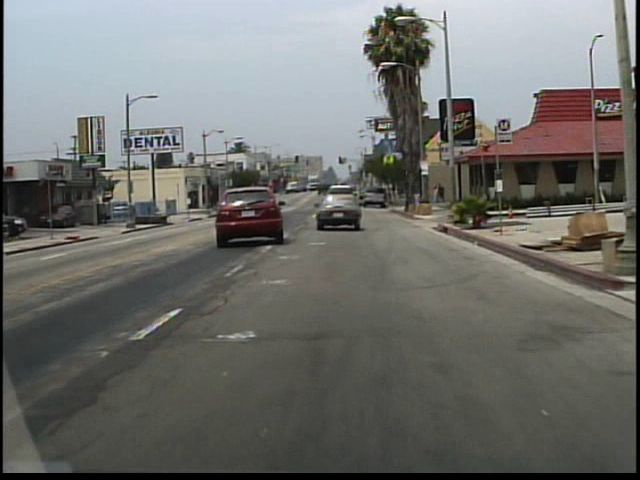person: (431, 183, 438, 205), (439, 182, 446, 203)
